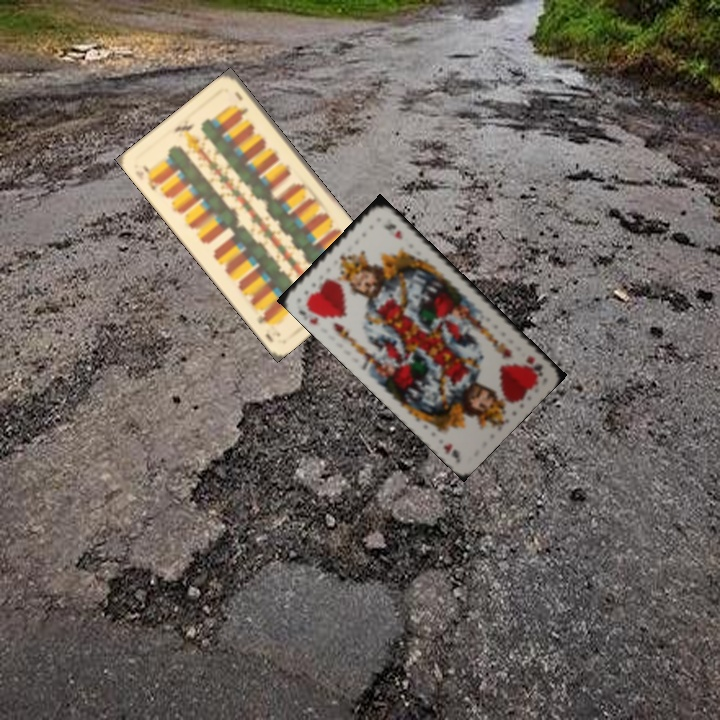E10: (139, 161, 163, 193)
HK: (522, 351, 546, 379), (293, 306, 321, 328)
